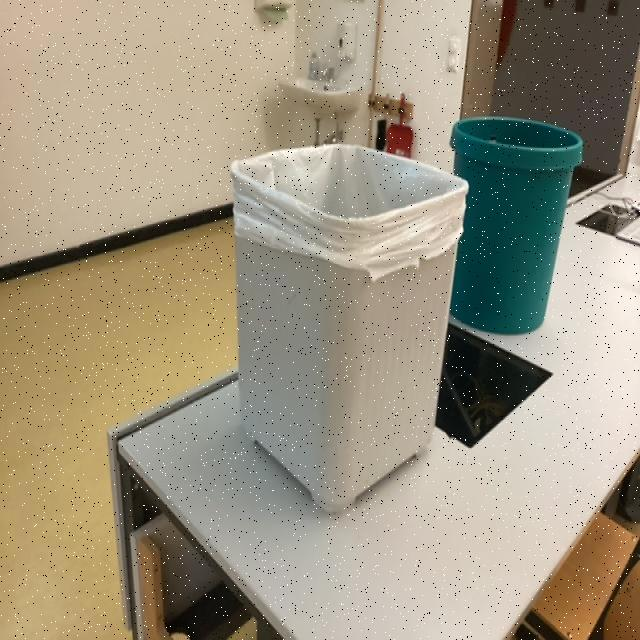garbage container: (190, 123, 472, 527), (428, 51, 619, 347)
